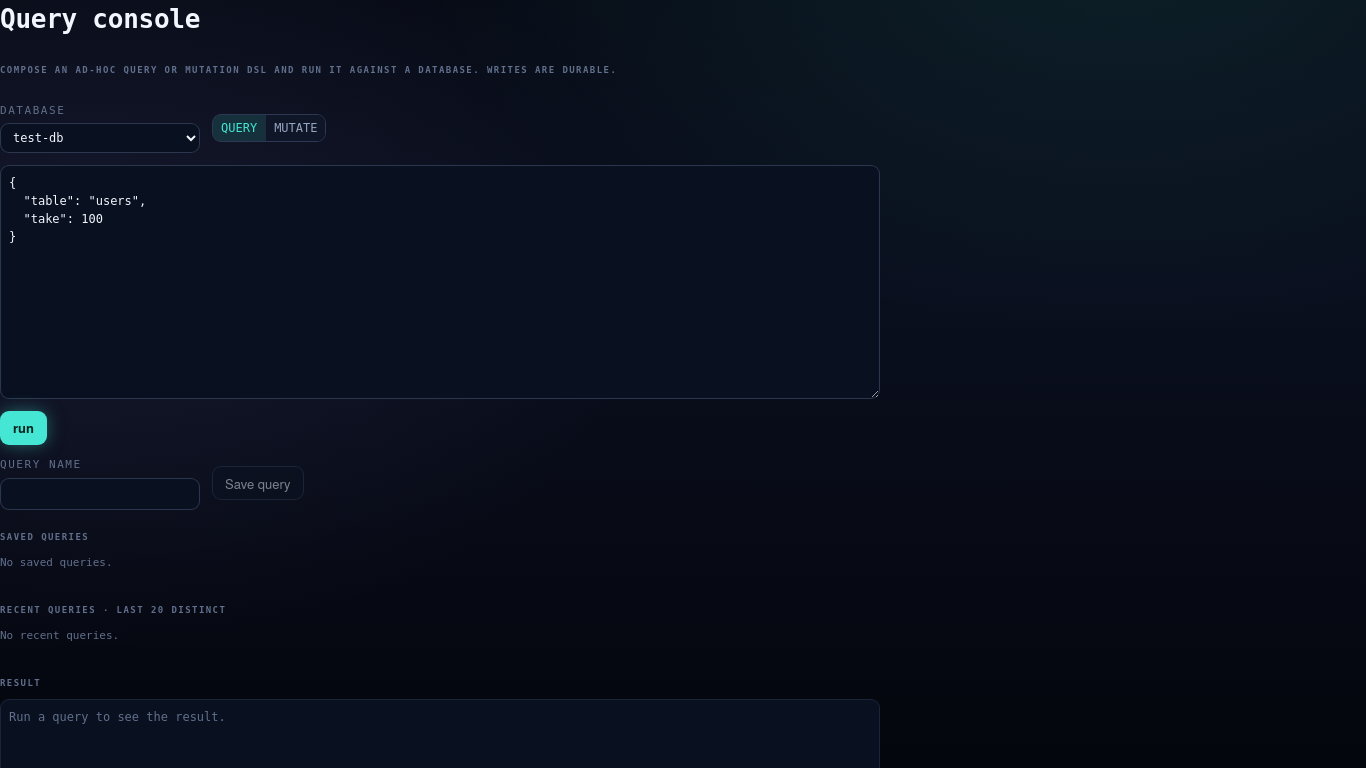
Test: QueryConsolePage › runs the default query and shows the pretty-printed result
The width and height of the screenshot is (1366, 768).
Click the button "run".
click(24, 428)  # box x1=0 y1=411 x2=47 y2=445
(page scrolled)
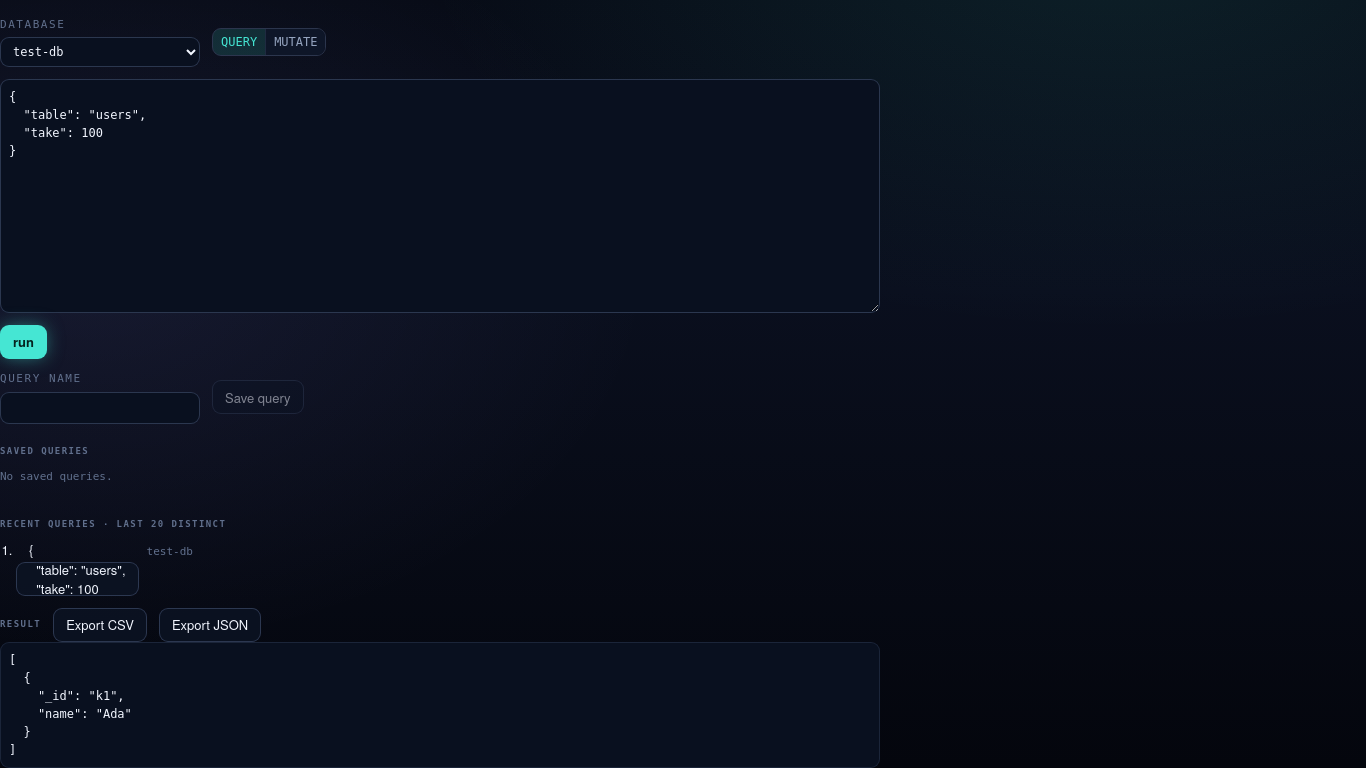
Now the text "[ { \"_id\": \"k1\", \"name\": \"Ada\" } ]" is shown, box x1=9 y1=653 x2=132 y2=757
